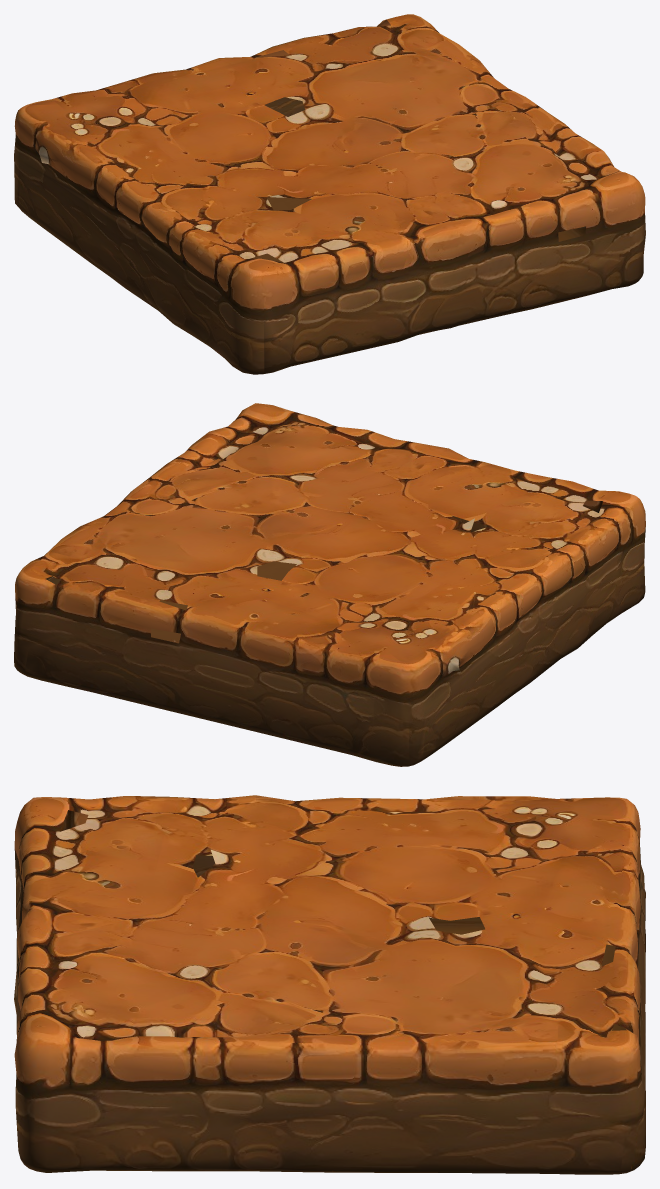
The model's file is baldosa_de_tierra_y_piedras.glb.
The picture shows the model from 3 angles, top to bottom: view 1: azimuth 30°, elevation 25°; view 2: azimuth 150°, elevation 25°; view 3: azimuth 270°, elevation 25°; orthographic projection. The views are drawn at different scales.
Visible parts, largest first — view 1: baldosa_de_tierra_y_piedras; view 2: baldosa_de_tierra_y_piedras; view 3: baldosa_de_tierra_y_piedras.
Part boxes in pixels (box(x1,y1,x2,y2)): baldosa_de_tierra_y_piedras: box(14, 14, 645, 374); baldosa_de_tierra_y_piedras: box(14, 403, 645, 766); baldosa_de_tierra_y_piedras: box(14, 795, 645, 1174).
Size of what is drawn, in the model's own units: 1.17 by 0.2882 by 1.2.
Materials: 1 (1 with a texture image).
